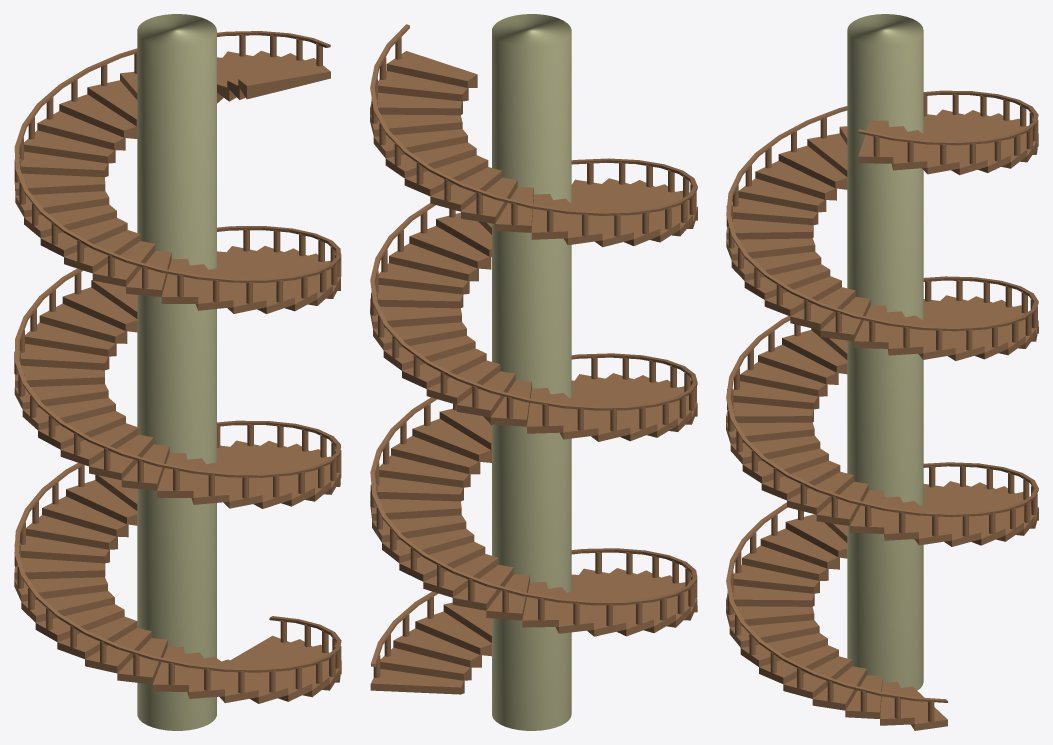
Rendered from stair 1.fbx.
3 renders of one model, left to right at view 1: azimuth 30°, elevation 25°; view 2: azimuth 150°, elevation 25°; view 3: azimuth 270°, elevation 25°, orthographic. The views are drawn at different scales.
Visible parts, largest first — view 1: 円柱, 円柱.001; view 2: 円柱, 円柱.001; view 3: 円柱, 円柱.001.
Part boxes in pixels (bbox=[...]): 円柱: bbox=[14, 31, 341, 703]; 円柱.001: bbox=[137, 14, 216, 730]; 円柱: bbox=[370, 24, 697, 694]; 円柱.001: bbox=[492, 14, 571, 730]; 円柱: bbox=[726, 90, 1038, 730]; 円柱.001: bbox=[847, 14, 923, 690].
Size of the model in its own units: 176 by 404 by 176.
